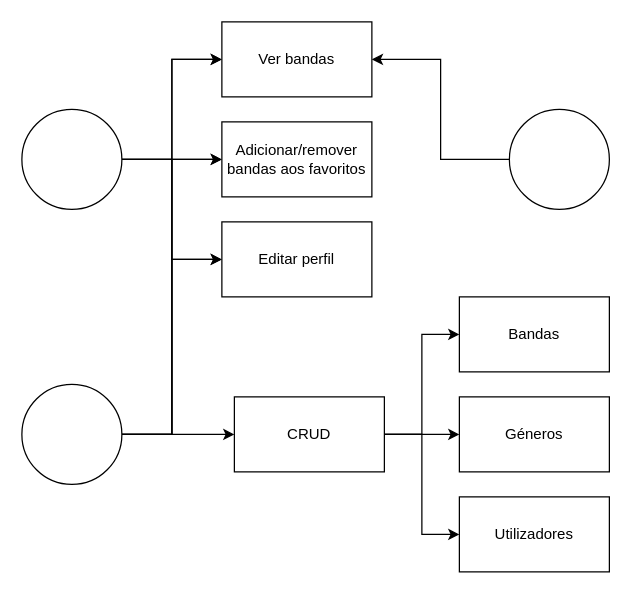
This 631x594 diagram has some shape labels left out. Each missing label, with the centre of its shape:
"Administrador" belongs at (71,433).
"Não autenticado" belongs at (558,158).
"Utilizador" belongs at (71,158).
